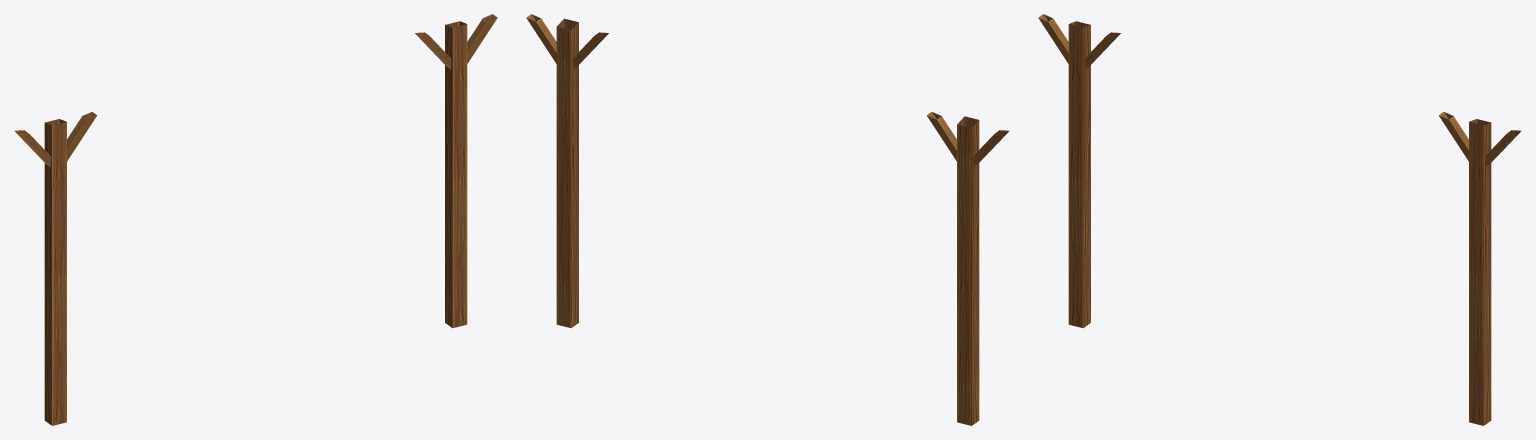
The picture shows the model from 3 angles, left to right: view 1: azimuth 30°, elevation 25°; view 2: azimuth 150°, elevation 25°; view 3: azimuth 330°, elevation 25°; orthographic projection.
Visible parts, largest first — view 1: Cube.757; view 2: Cube.757; view 3: Cube.757.
Boxes of the visible parts, x1,y1,x2,y2 form: Cube.757: (14,14,497,425); Cube.757: (526,14,1009,425); Cube.757: (1038,14,1521,425).
Size of the model in its own units: 760 by 456 by 20.66.
Materials: 1 (1 with a texture image).
